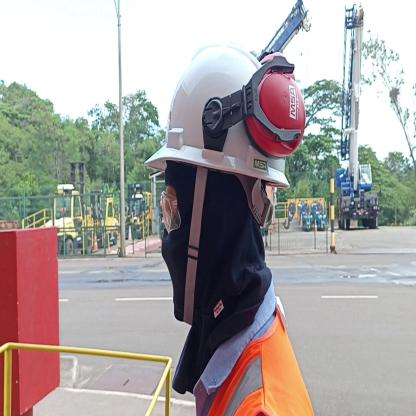Balaclava: (162, 162, 272, 317)
Capacete: (156, 41, 293, 168)
